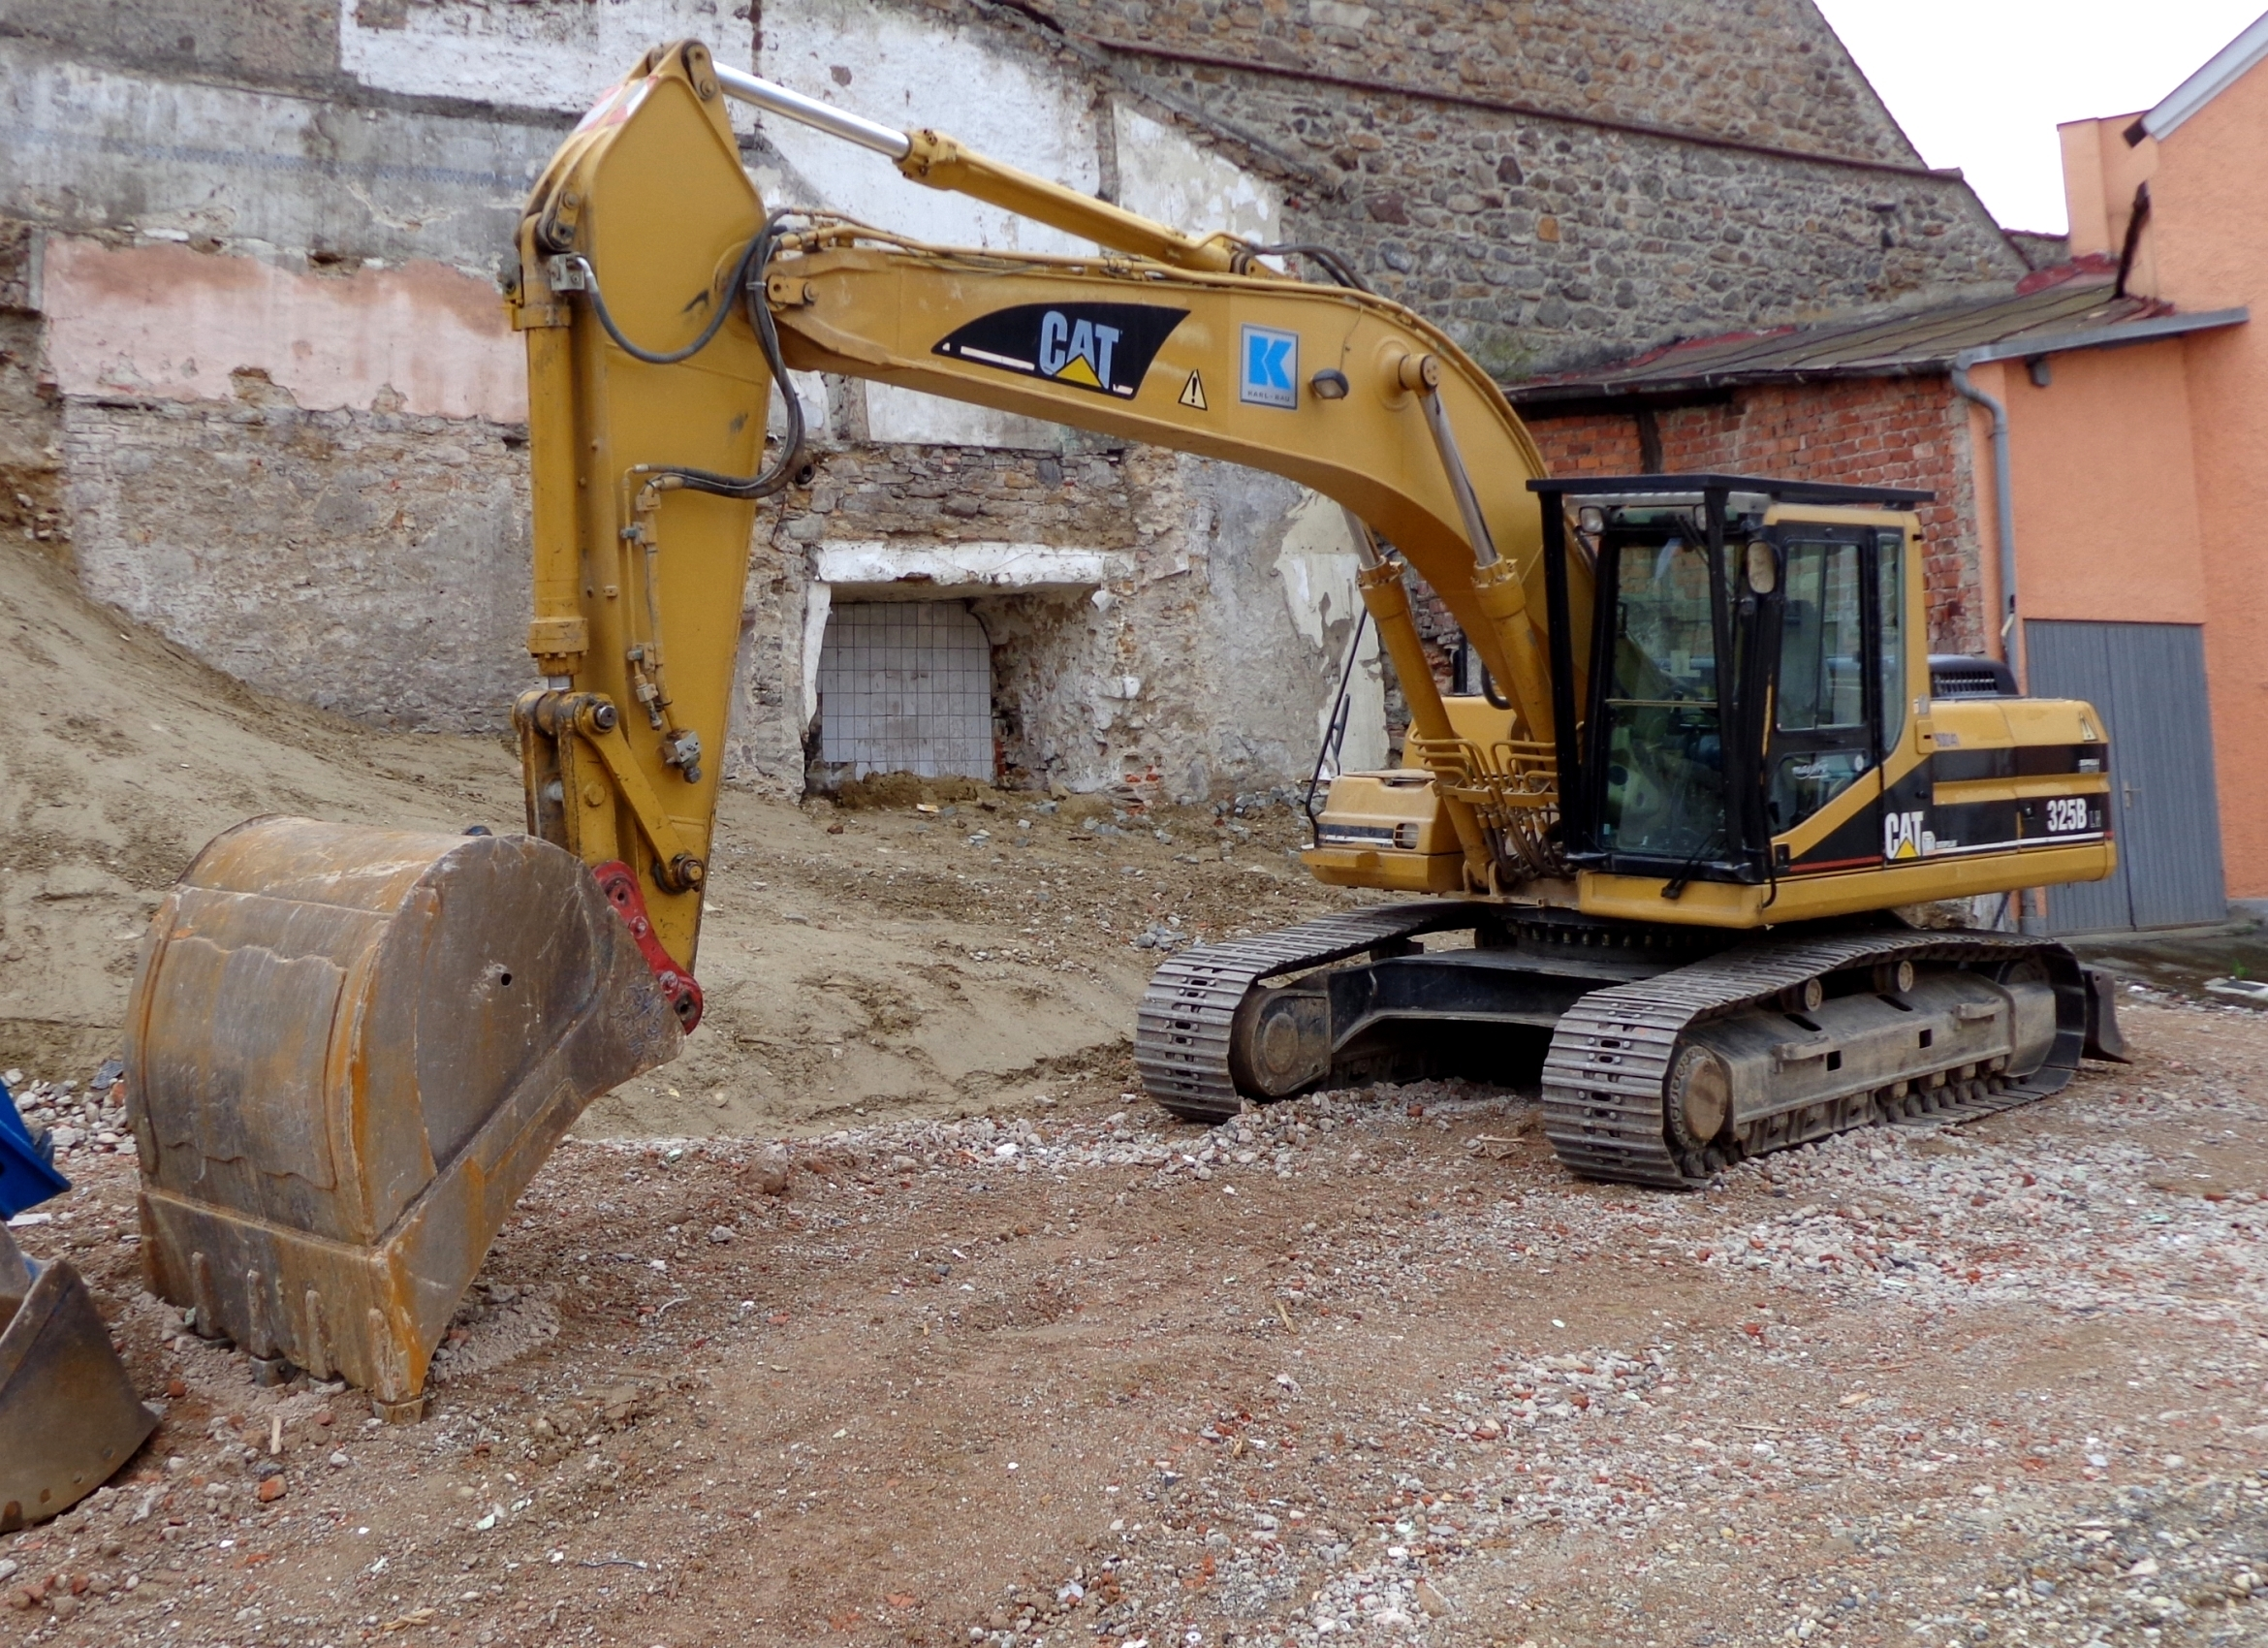excavator: (95, 51, 2139, 1433)
